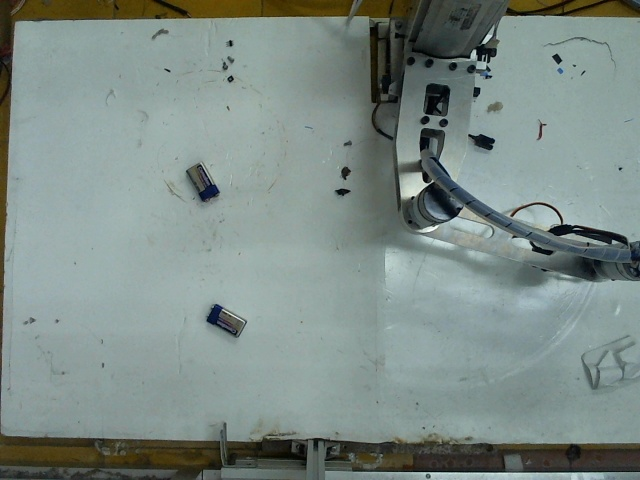battery: (205, 301, 248, 337), (184, 162, 216, 200)
